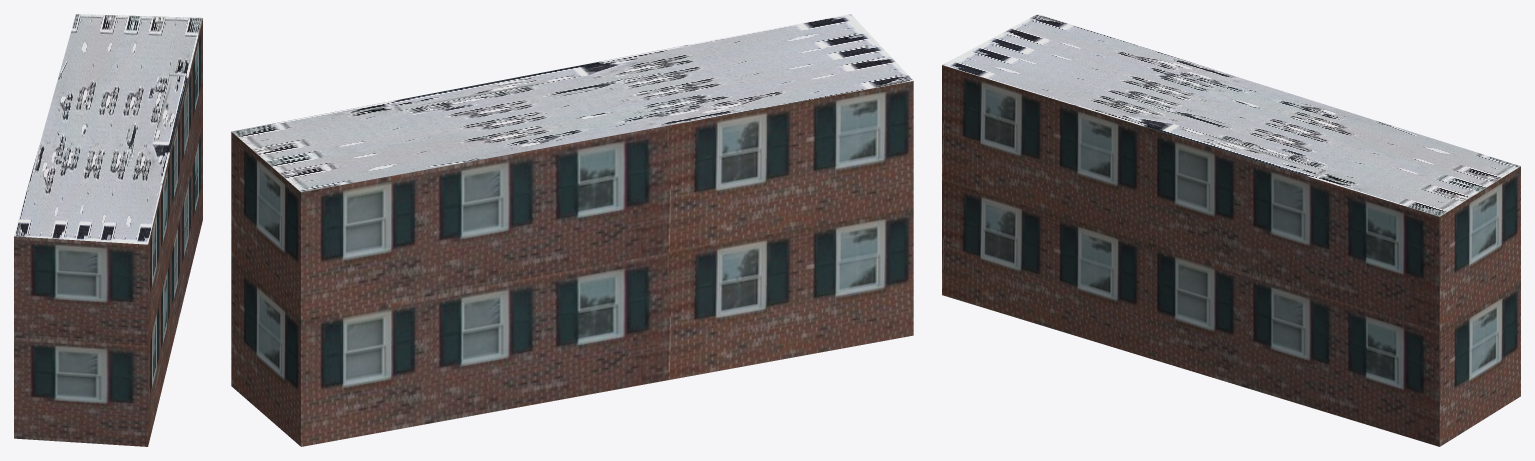
The model's file is ResTex__1101.fbx.
The picture shows the model from 3 angles, left to right: view 1: azimuth 30°, elevation 25°; view 2: azimuth 150°, elevation 25°; view 3: azimuth 270°, elevation 25°; orthographic projection. The views are drawn at different scales.
Visible parts, largest first — view 1: CityEngineMaterial_14_m, CityEngineMaterial_4_m; view 2: CityEngineMaterial_14_m, CityEngineMaterial_4_m; view 3: CityEngineMaterial_14_m, CityEngineMaterial_4_m.
Boxes of the visible parts, bbox=[...] form: CityEngineMaterial_14_m: bbox=[14, 18, 202, 446]; CityEngineMaterial_4_m: bbox=[14, 14, 202, 244]; CityEngineMaterial_14_m: bbox=[231, 81, 913, 446]; CityEngineMaterial_4_m: bbox=[231, 14, 913, 192]; CityEngineMaterial_14_m: bbox=[942, 65, 1520, 446]; CityEngineMaterial_4_m: bbox=[942, 14, 1520, 216].
Bounding box in the file's own units: 11.35 × 6 × 13.68.
2 materials, 2 textured.
